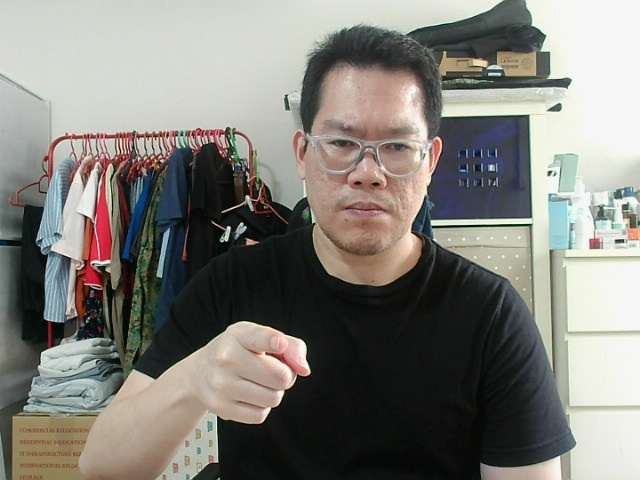you: (196, 333, 302, 417)
